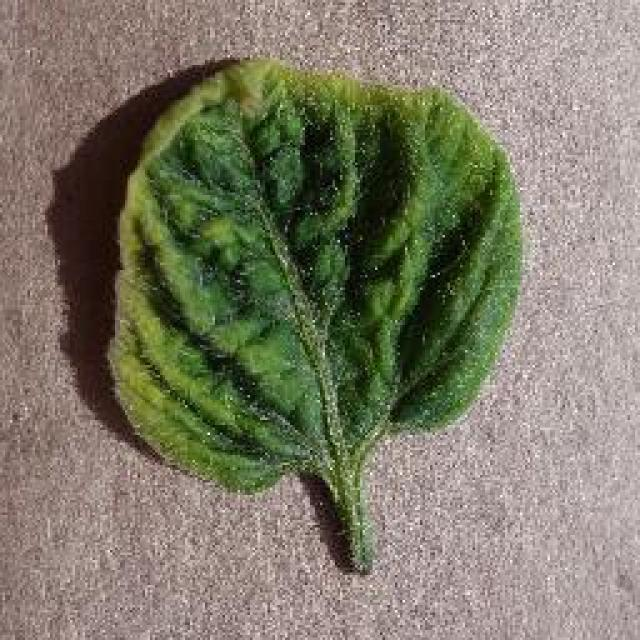Tomato yellow virus leaf: (106, 56, 520, 492)
